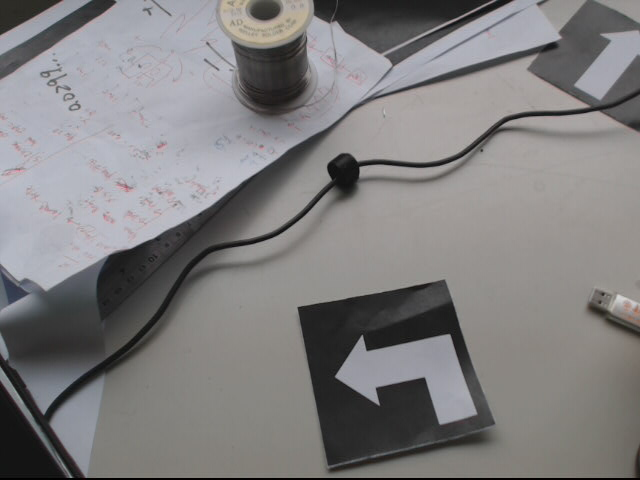left: (297, 279, 495, 465)
